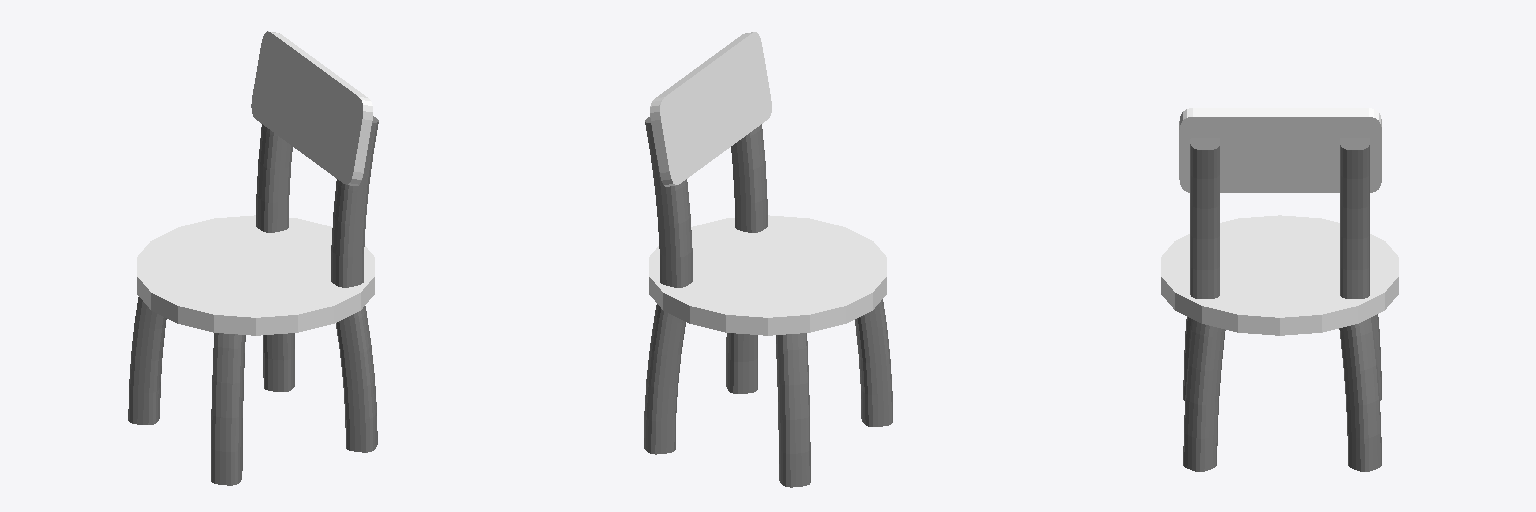
File: kitchenChair.obj
3 renders of one model, left to right at view 1: azimuth 30°, elevation 25°; view 2: azimuth 150°, elevation 25°; view 3: azimuth 270°, elevation 25°, orthographic.
Parts seen in each view (by area): view 1: Cylinder001, Box007, Box004, Box003, Box005, Box001, Box006, Box002; view 2: Cylinder001, Box007, Box001, Box002, Box006, Box004, Box005, Box003; view 3: Cylinder001, Box007, Box002, Box003, Box006, Box005.
Boxes of the visible parts, <box> form: Cylinder001: <box>137,215,374,335</box>; Box007: <box>251,31,372,185</box>; Box004: <box>211,333,245,485</box>; Box003: <box>336,306,377,452</box>; Box005: <box>331,116,378,287</box>; Box001: <box>128,297,166,424</box>; Box006: <box>256,124,292,232</box>; Box002: <box>263,333,294,391</box>; Cylinder001: <box>649,215,886,335</box>; Box007: <box>650,32,771,186</box>; Box001: <box>776,333,810,487</box>; Box002: <box>644,304,685,454</box>; Box006: <box>645,117,692,287</box>; Box004: <box>855,299,892,426</box>; Box005: <box>731,124,767,232</box>; Box003: <box>726,333,757,393</box>; Cylinder001: <box>1161,215,1398,335</box>; Box007: <box>1179,108,1381,192</box>; Box002: <box>1339,317,1381,471</box>; Box003: <box>1183,320,1225,471</box>; Box006: <box>1340,138,1369,298</box>; Box005: <box>1190,138,1219,298</box>.
Size of the model in its own units: 20.19 by 32.47 by 19.89.